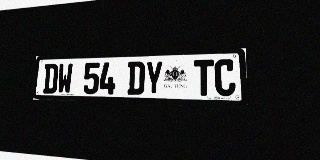4: (99, 62, 116, 94)
5: (83, 62, 100, 94)
C: (214, 59, 236, 96)
D: (127, 61, 145, 95), (43, 64, 58, 94)
T: (194, 59, 214, 96)
W: (57, 63, 73, 94)
Y: (145, 61, 163, 95)
